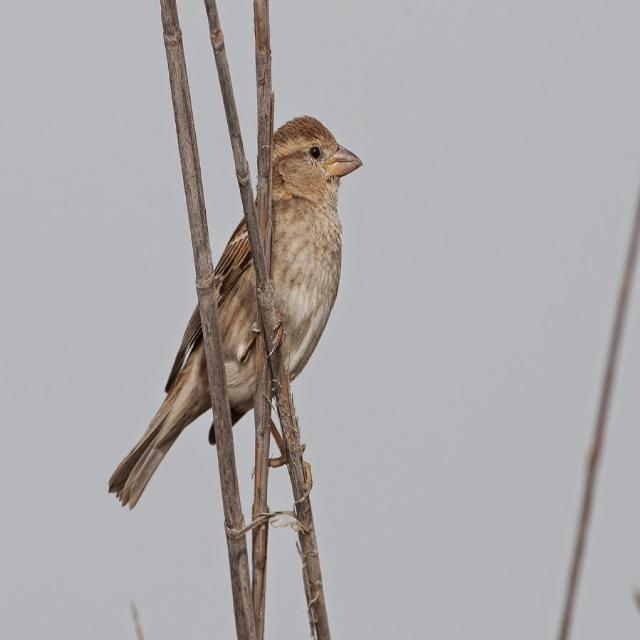bird: (104, 115, 364, 517), (126, 599, 146, 638)
